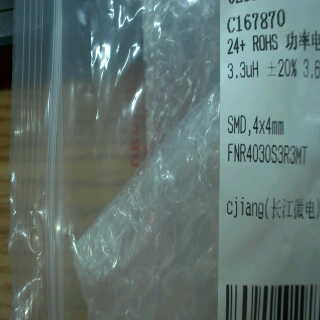3.3uH: (220, 51, 261, 81)
